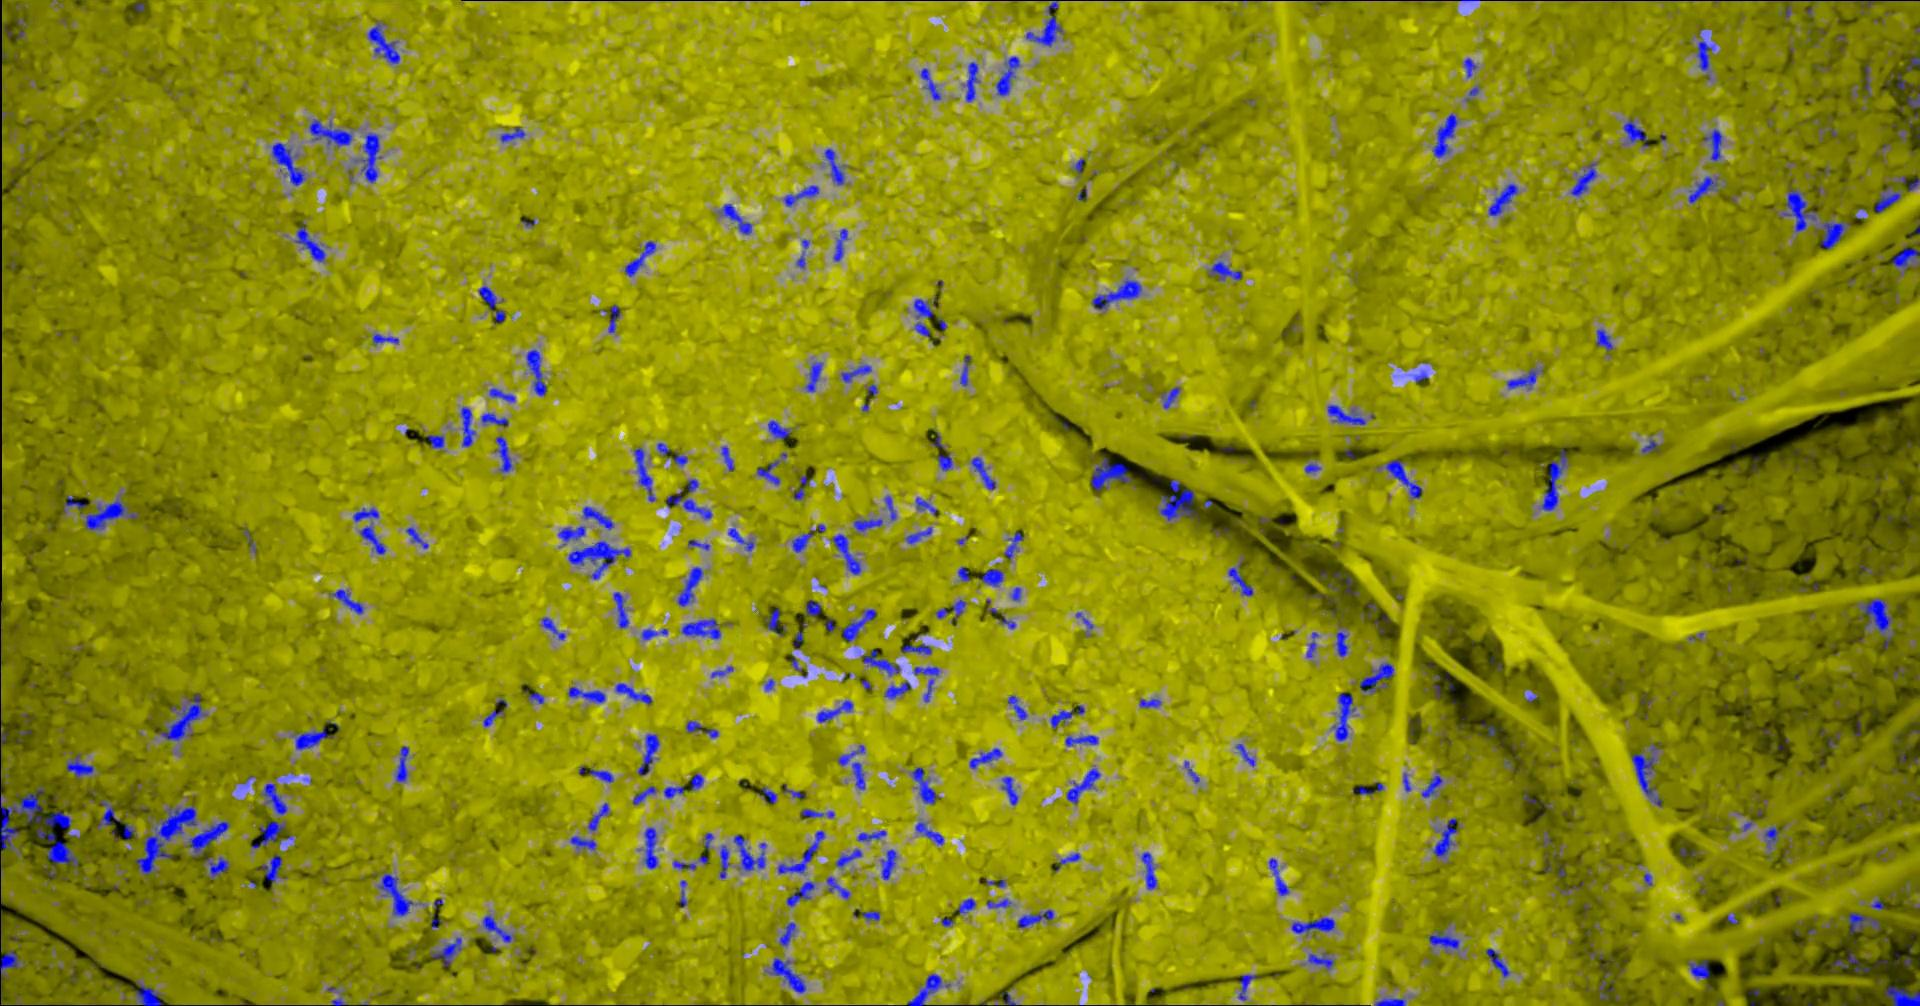ant: (568, 540, 630, 579), (159, 692, 206, 741), (36, 828, 77, 880), (777, 829, 824, 873), (1630, 742, 1661, 807), (1026, 0, 1062, 47), (1159, 479, 1199, 521), (377, 873, 417, 915), (1542, 448, 1567, 511), (352, 507, 385, 554), (188, 821, 229, 857), (1091, 279, 1142, 309), (1385, 459, 1422, 498), (764, 956, 805, 992), (270, 142, 303, 185), (85, 500, 136, 528), (1782, 189, 1815, 231), (1090, 457, 1131, 490), (905, 973, 949, 1005), (354, 132, 381, 182), (367, 23, 399, 64), (665, 492, 711, 520), (632, 447, 655, 500), (1065, 768, 1100, 804), (830, 533, 860, 574), (838, 744, 865, 789), (1859, 600, 1892, 635), (295, 222, 325, 260), (841, 608, 875, 641), (1432, 113, 1458, 158), (623, 240, 655, 276), (733, 835, 764, 870), (309, 119, 350, 146), (477, 285, 505, 324), (861, 648, 900, 674), (1359, 662, 1393, 692), (1332, 692, 1354, 741), (677, 567, 702, 606), (1829, 949, 1869, 973), (719, 203, 750, 234), (250, 821, 284, 848), (1432, 817, 1457, 856), (526, 349, 546, 395), (292, 727, 333, 749), (1488, 183, 1517, 215), (637, 733, 659, 775), (913, 666, 938, 701), (996, 56, 1018, 95), (430, 937, 461, 967), (910, 767, 935, 804), (1570, 163, 1596, 196), (1227, 561, 1252, 594), (1818, 221, 1849, 248), (970, 457, 996, 489), (681, 619, 720, 639), (615, 682, 651, 704), (1050, 705, 1084, 728), (483, 915, 510, 942), (1688, 177, 1717, 203), (1327, 404, 1365, 424), (817, 700, 852, 721), (331, 589, 363, 614), (262, 782, 286, 814), (582, 506, 613, 528), (1269, 857, 1288, 895), (824, 149, 844, 184), (1291, 917, 1335, 934), (1622, 119, 1648, 146), (65, 753, 93, 779), (1890, 246, 1919, 271), (1484, 948, 1509, 977), (783, 185, 818, 206), (935, 600, 965, 622), (1884, 984, 1919, 1005), (969, 747, 1001, 768), (1848, 912, 1879, 934), (1506, 368, 1542, 387), (494, 434, 512, 473), (786, 882, 814, 906), (135, 981, 163, 1005), (963, 61, 979, 102), (919, 67, 940, 100), (1874, 187, 1900, 212), (916, 821, 943, 843), (1017, 909, 1053, 927), (0, 949, 18, 984), (1209, 260, 1242, 279), (728, 527, 753, 551), (97, 800, 119, 827), (568, 686, 604, 702), (1703, 128, 1722, 160), (587, 801, 608, 829), (460, 406, 475, 446), (262, 854, 282, 883), (203, 856, 229, 879), (1429, 930, 1459, 949), (643, 827, 657, 868), (613, 591, 629, 627), (756, 460, 778, 484), (791, 528, 814, 553), (825, 876, 850, 899), (540, 617, 565, 639), (1421, 771, 1443, 796), (1237, 974, 1258, 1000), (684, 720, 717, 737), (1697, 39, 1714, 70), (841, 365, 871, 382), (764, 608, 785, 635), (1004, 531, 1023, 559), (913, 295, 936, 318), (1335, 572, 1357, 594), (804, 362, 822, 391), (1142, 852, 1156, 889), (557, 525, 584, 544), (880, 848, 897, 879), (405, 526, 428, 547), (836, 848, 861, 868), (1054, 852, 1079, 871), (884, 681, 910, 699), (833, 227, 847, 260), (1001, 776, 1017, 804), (1597, 970, 1614, 998), (792, 475, 811, 499), (1007, 695, 1026, 719), (395, 746, 408, 781), (1307, 951, 1333, 968), (767, 420, 790, 439), (1236, 743, 1255, 766), (632, 785, 655, 804), (905, 526, 931, 542), (1688, 959, 1709, 978), (980, 568, 1003, 586), (790, 654, 808, 677), (569, 835, 596, 850), (500, 126, 524, 142), (62, 495, 86, 512), (1161, 386, 1178, 408), (1764, 826, 1782, 847), (1064, 734, 1097, 746), (778, 922, 795, 945), (488, 387, 514, 401), (481, 412, 508, 426), (853, 518, 883, 531), (916, 497, 936, 514), (1890, 72, 1911, 89), (1595, 329, 1611, 351), (588, 768, 613, 782), (959, 354, 970, 385), (1183, 760, 1199, 782), (1352, 782, 1383, 794), (719, 843, 729, 878), (483, 709, 502, 727), (720, 446, 734, 470), (902, 643, 931, 654), (857, 829, 886, 841), (783, 782, 805, 798), (607, 304, 618, 332), (884, 495, 897, 520), (1335, 631, 1347, 655), (640, 627, 667, 639), (800, 808, 834, 817), (372, 333, 397, 344), (937, 451, 952, 470), (1481, 721, 1501, 735), (1862, 65, 1870, 97), (1305, 633, 1317, 657), (663, 785, 684, 798), (759, 786, 776, 803), (1679, 840, 1697, 855), (957, 898, 975, 913), (1463, 57, 1476, 77), (805, 600, 820, 616), (122, 822, 136, 840), (687, 539, 709, 550), (710, 666, 731, 677), (914, 323, 930, 338), (672, 859, 695, 869), (1374, 997, 1404, 1005), (1906, 91, 1919, 109), (425, 434, 443, 447), (1641, 439, 1658, 452), (985, 898, 1010, 907), (1905, 56, 1919, 71), (690, 774, 703, 789), (791, 631, 803, 649), (673, 451, 687, 465), (1001, 991, 1015, 1005), (1855, 0, 1881, 8), (1139, 699, 1161, 708), (861, 909, 879, 920), (657, 442, 669, 456), (679, 880, 686, 907), (527, 692, 543, 702), (687, 478, 698, 492), (957, 567, 969, 580), (1304, 464, 1321, 473), (703, 832, 712, 848), (1011, 587, 1020, 600)
